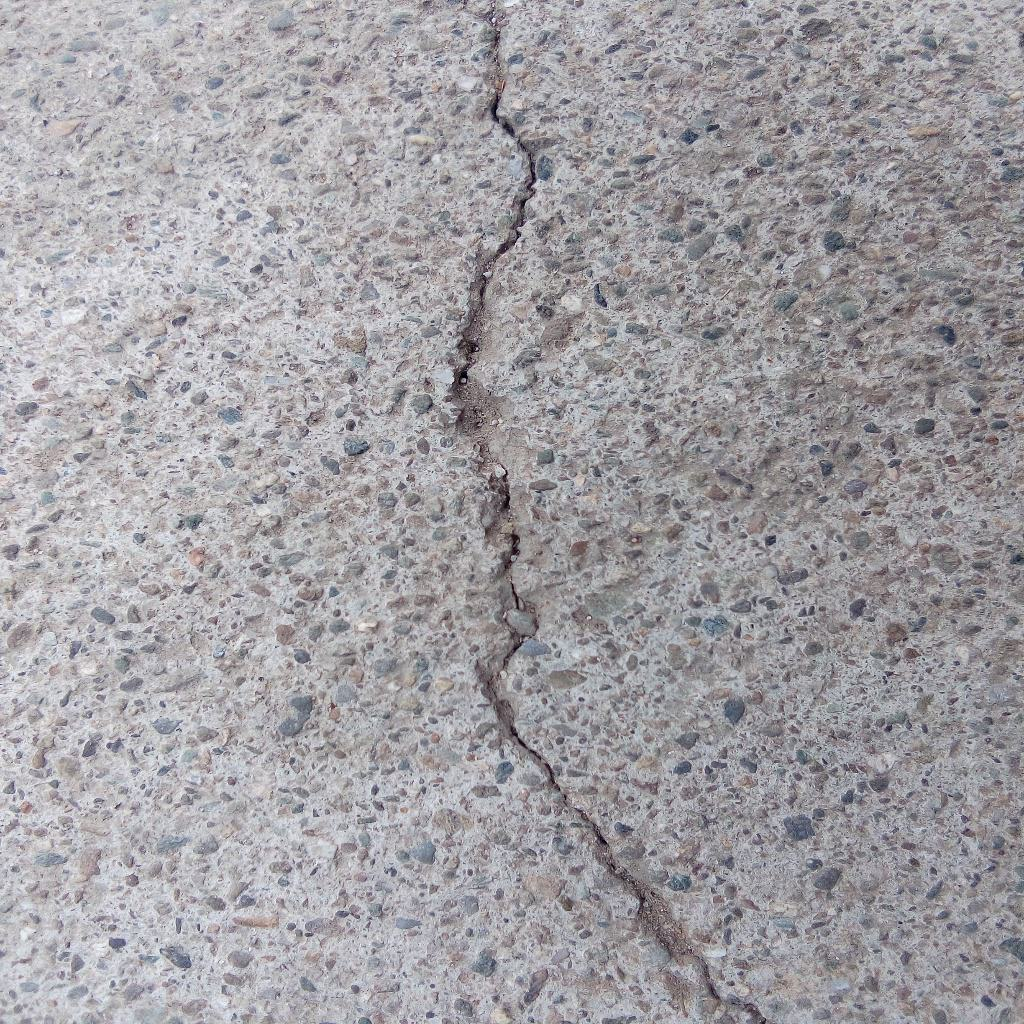Crack: (443, 1, 770, 1024)
